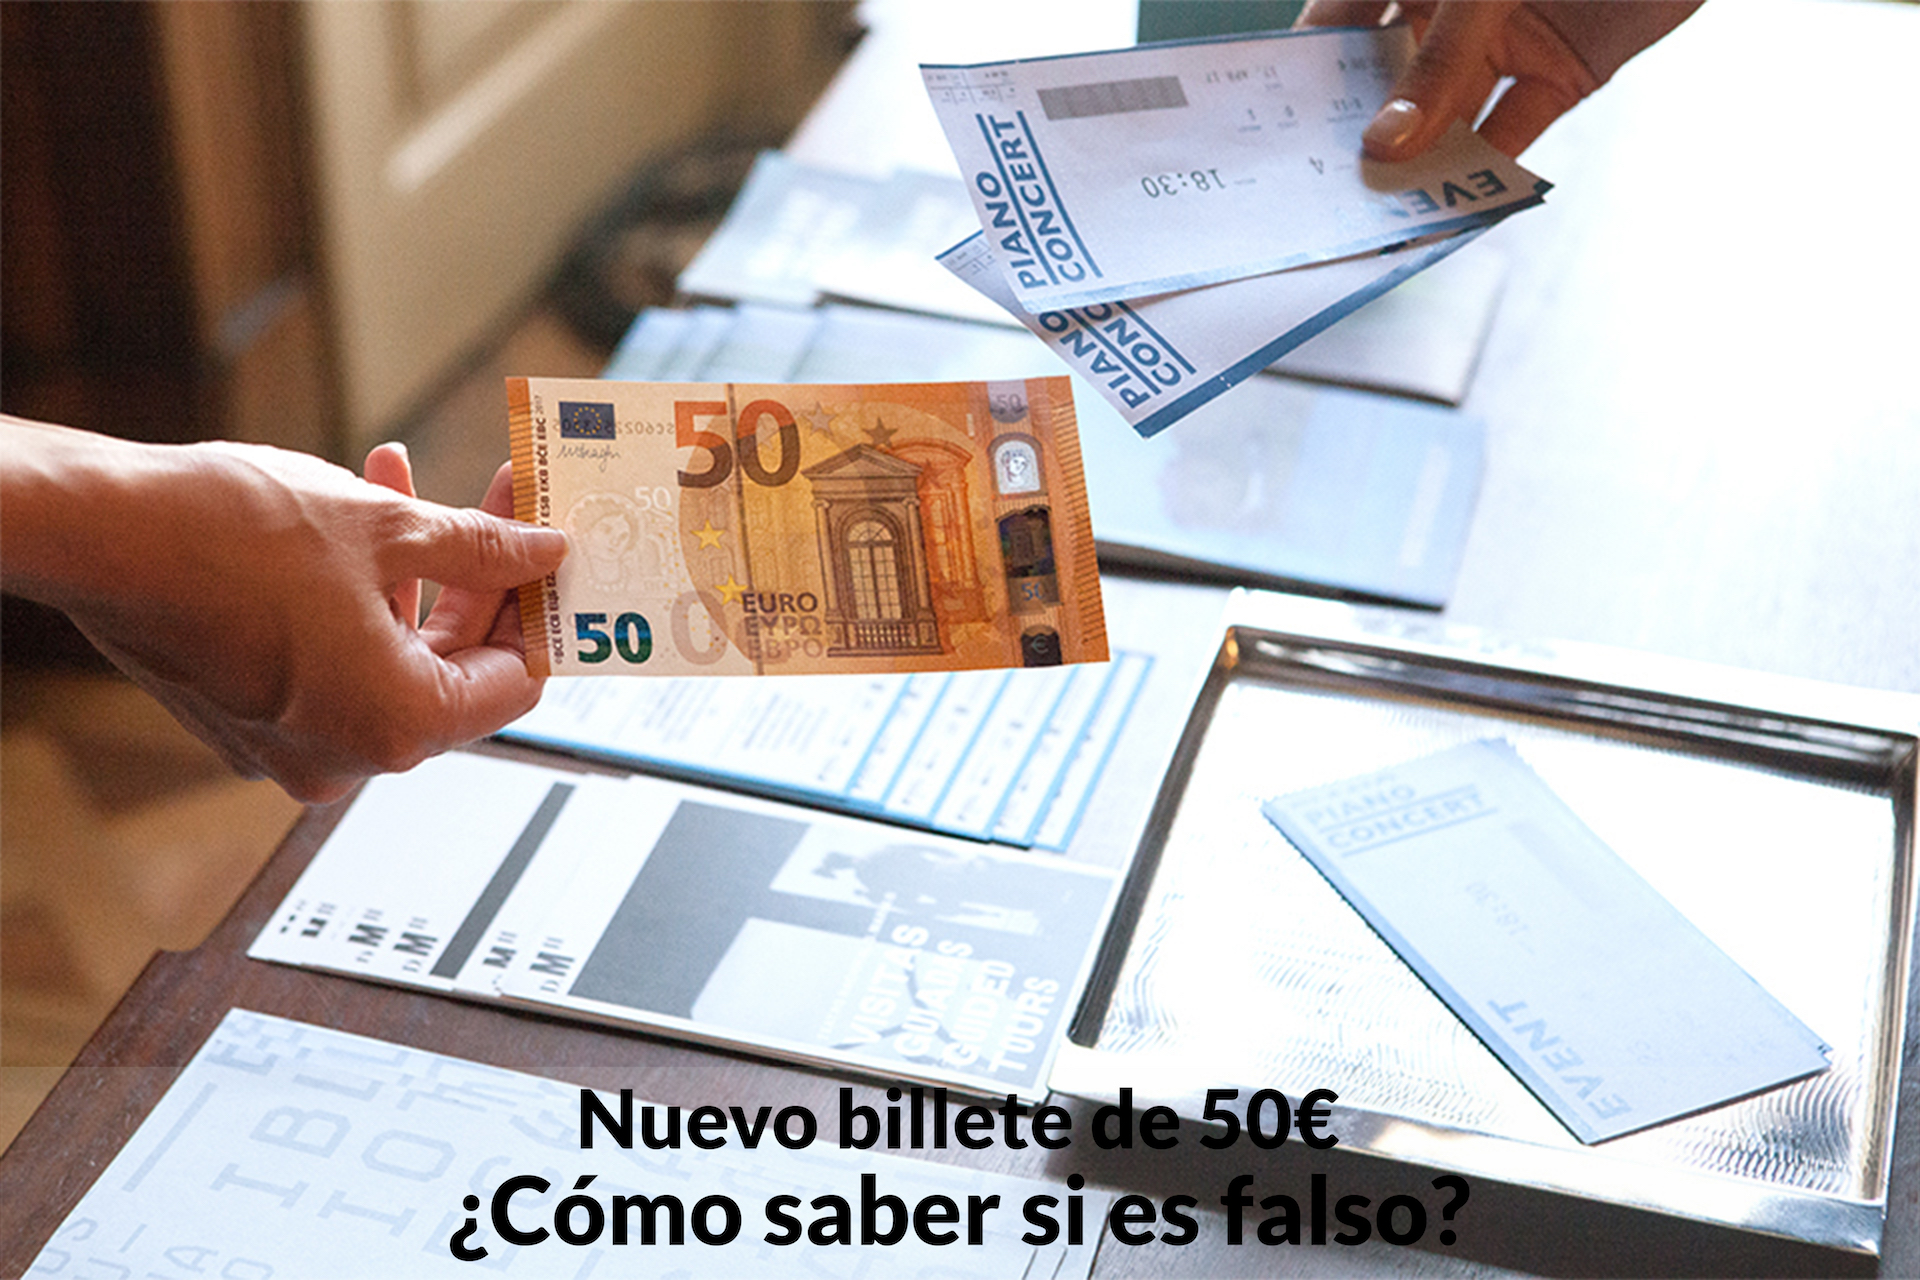billete: (501, 370, 1114, 674)
